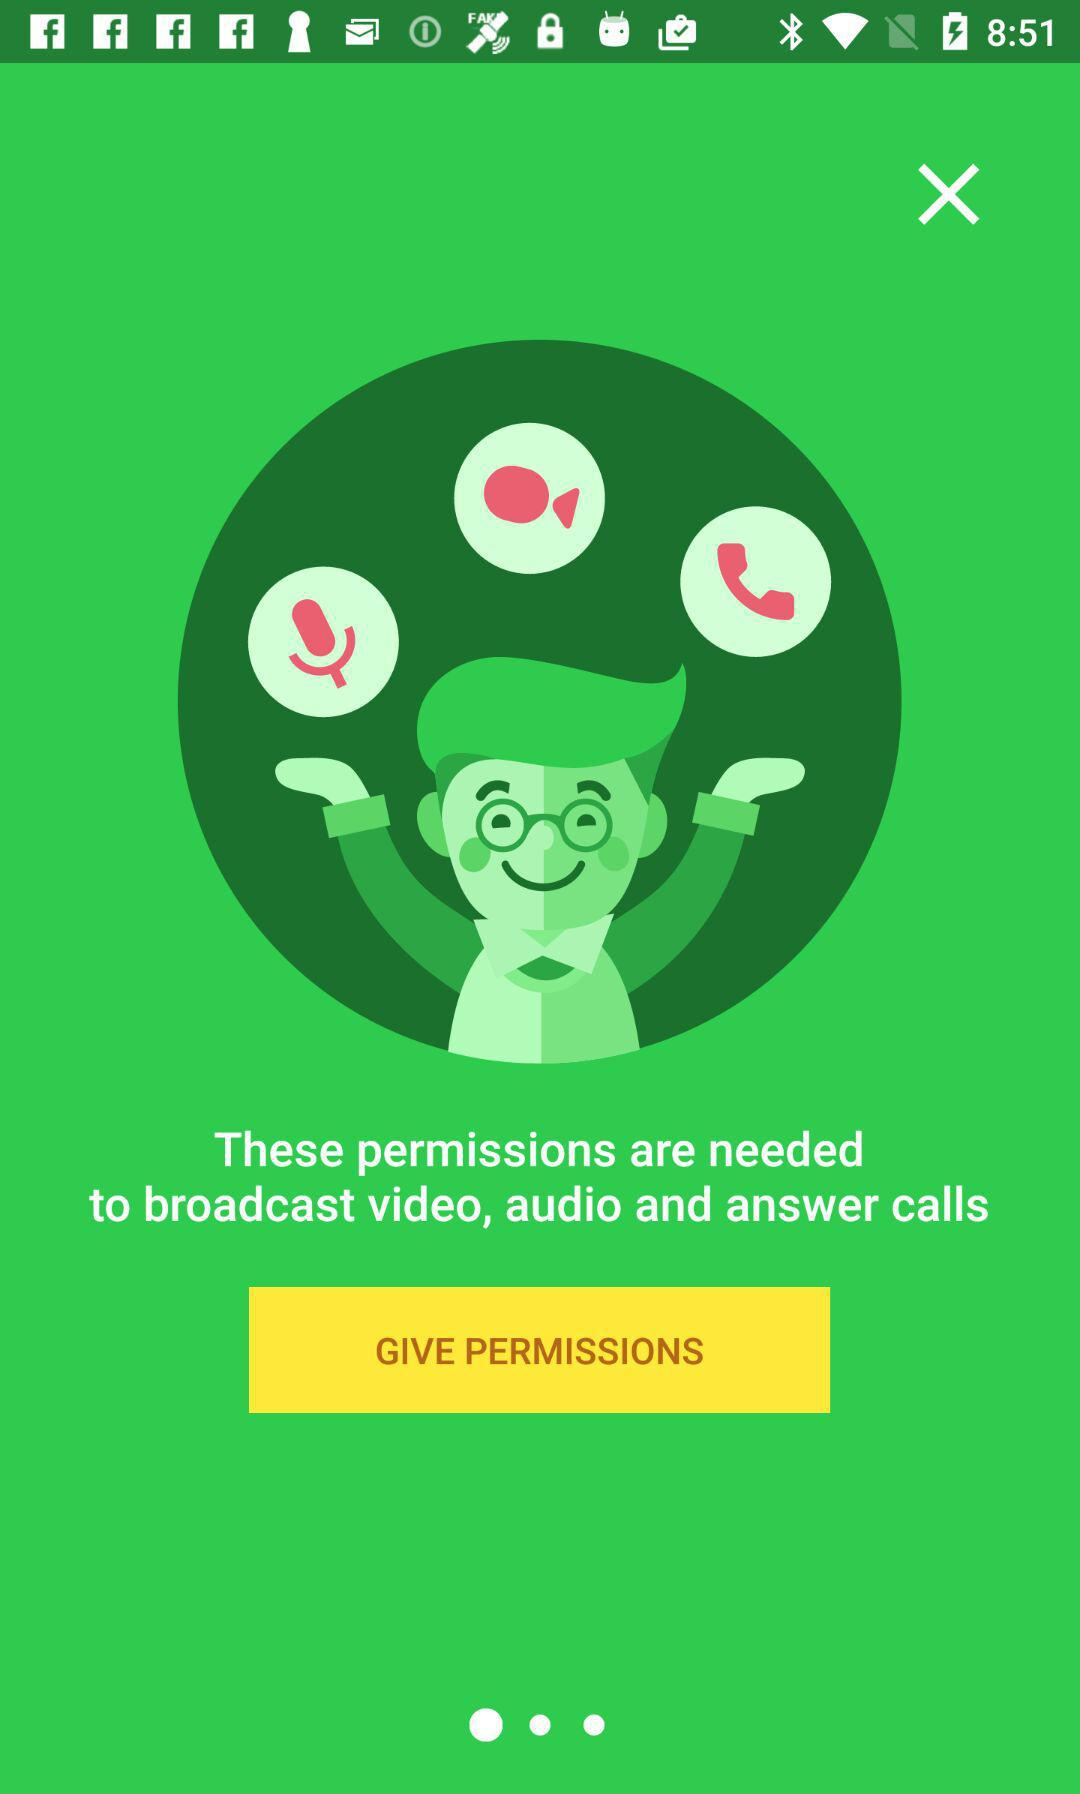Icon: (917, 163, 981, 228)
Image: (176, 338, 901, 1065)
PageIndicator: (468, 1706, 609, 1744)
Text: (88, 1128, 989, 1231)
TextButton: (249, 1287, 831, 1413)
UpperTaskBar: (1, 1, 1080, 64)
